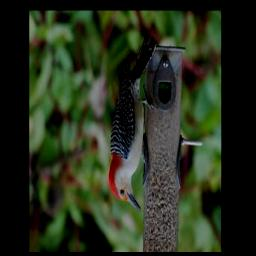Woodpecker: (108, 29, 159, 212)
